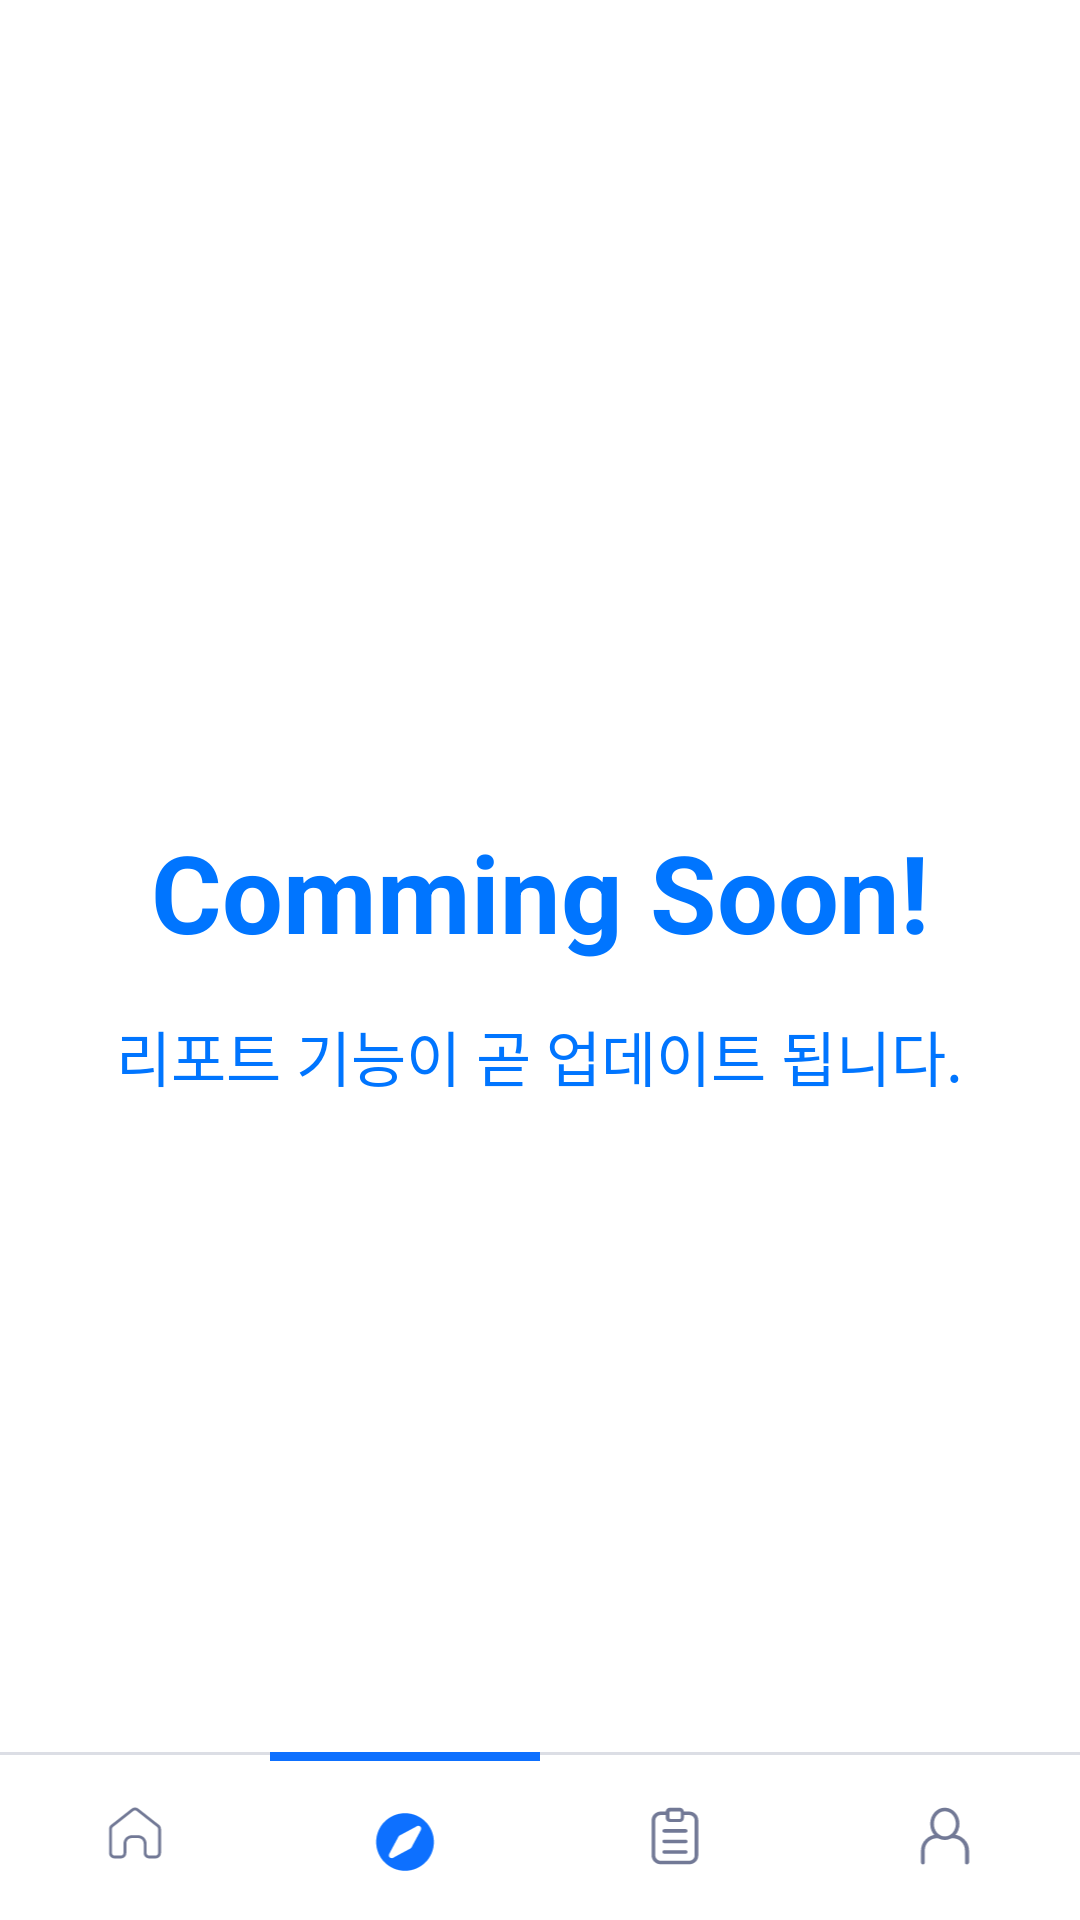

Icons on this 1080×1920 Android screen, each with the point to tap as (x=x, y=y):
home non: (x=135, y=1833)
report none: (x=675, y=1836)
route sel: (x=405, y=1842)
